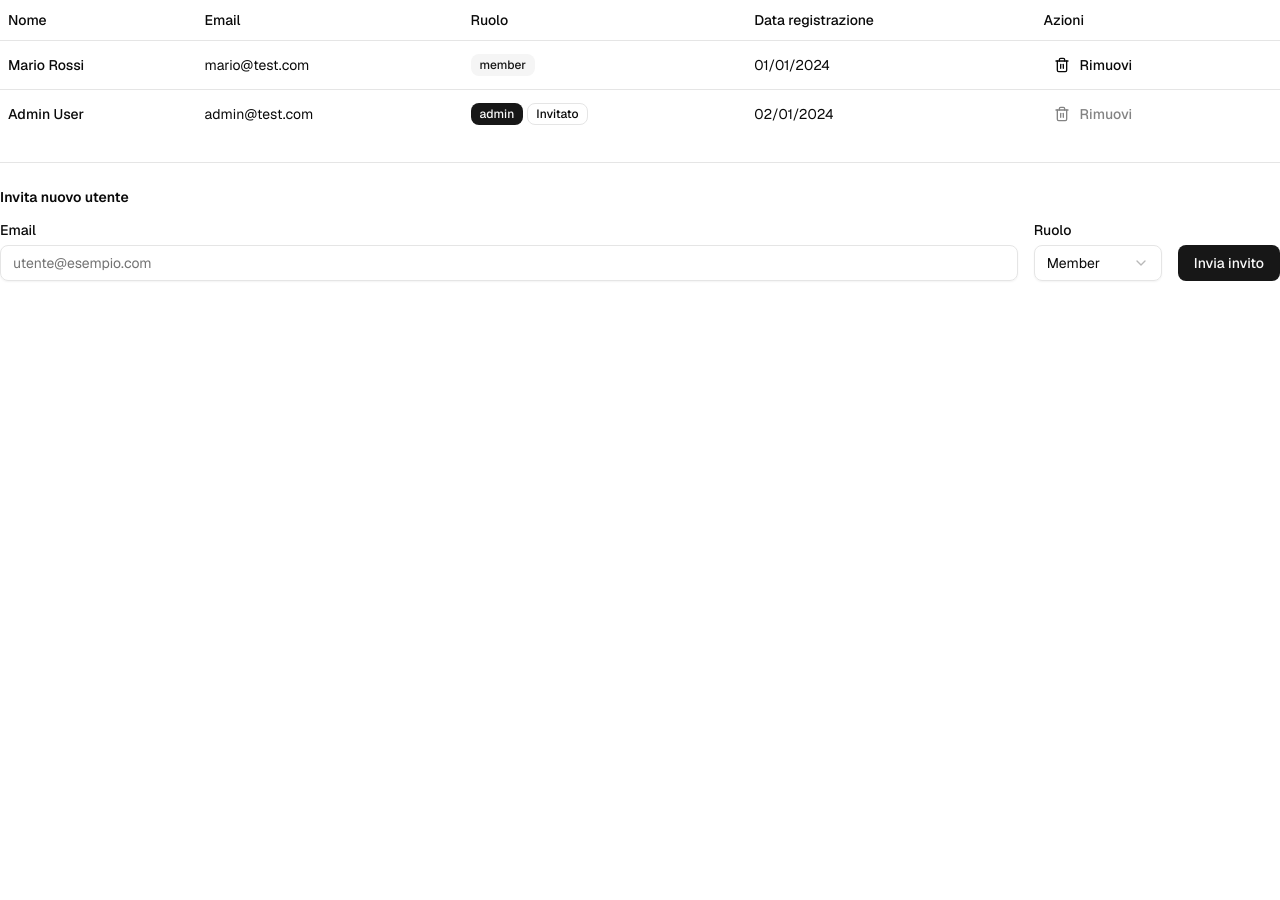
Test: UserManagement › removes user from list after confirmed deletion
This screenshot has width=1280, height=900.
Click the button "Rimuovi" in the row of "Mario Rossi": (1093, 64) [1044,48,1142,80]
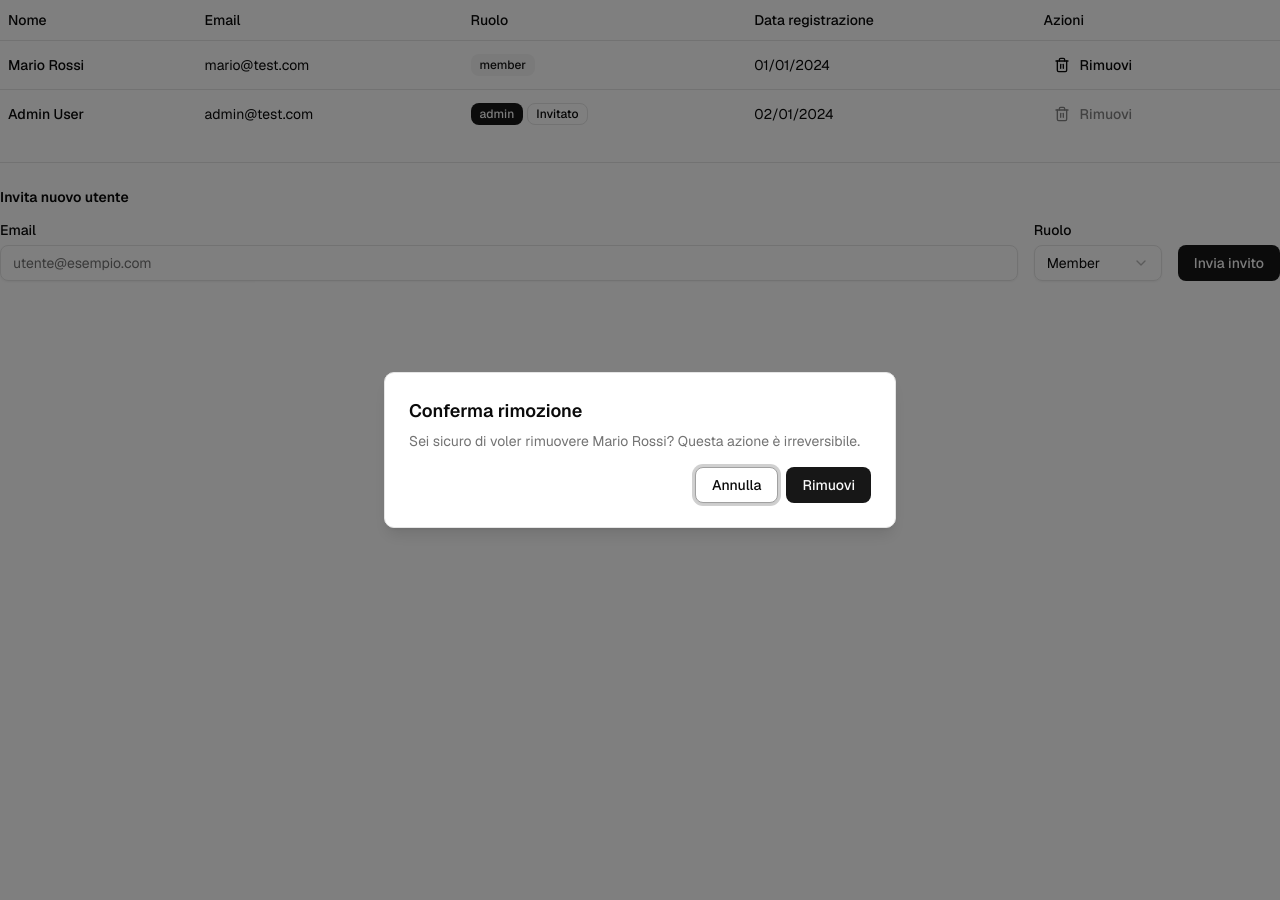
Click the button "Rimuovi": (829, 485) [786,467,871,503]
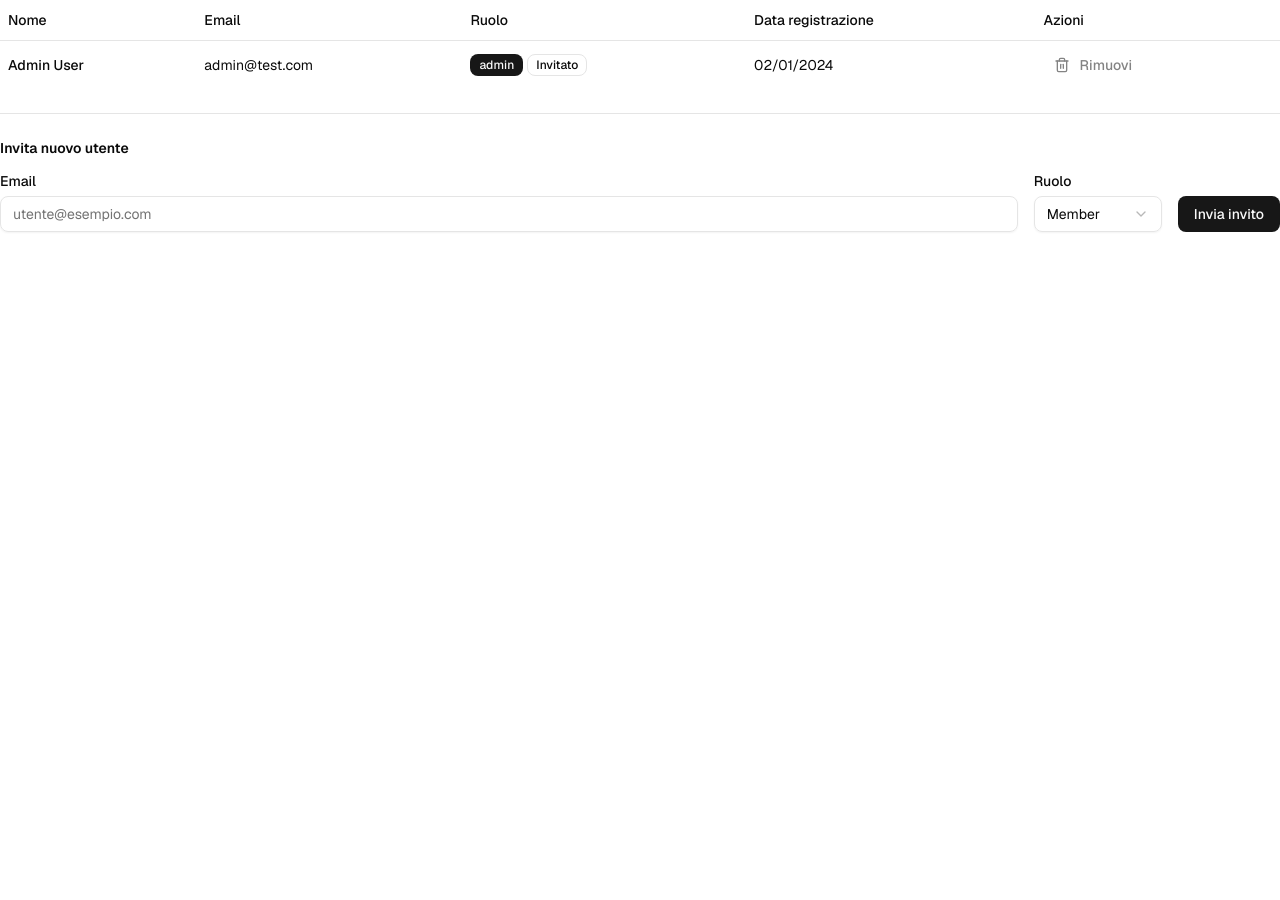
Expected: the text "Mario Rossi" is gone
